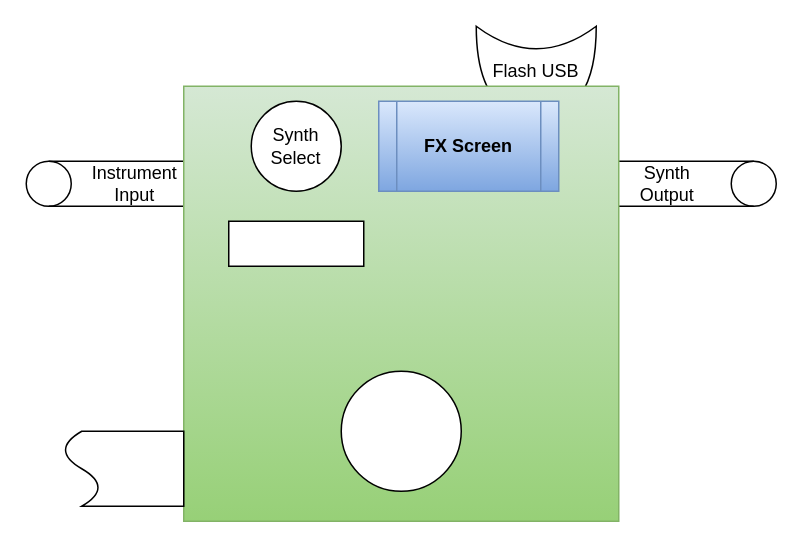
Image size: 803x548. Some labels were removed from this diagram. The shapes that lost their labels are listed below. From the top down, each one's centre as x and y in pixels, then its label:
At point (295, 243): "Calibrate New instrument".
At point (400, 430): "Engage / Bypass".
At point (123, 468): "SD Card In".
